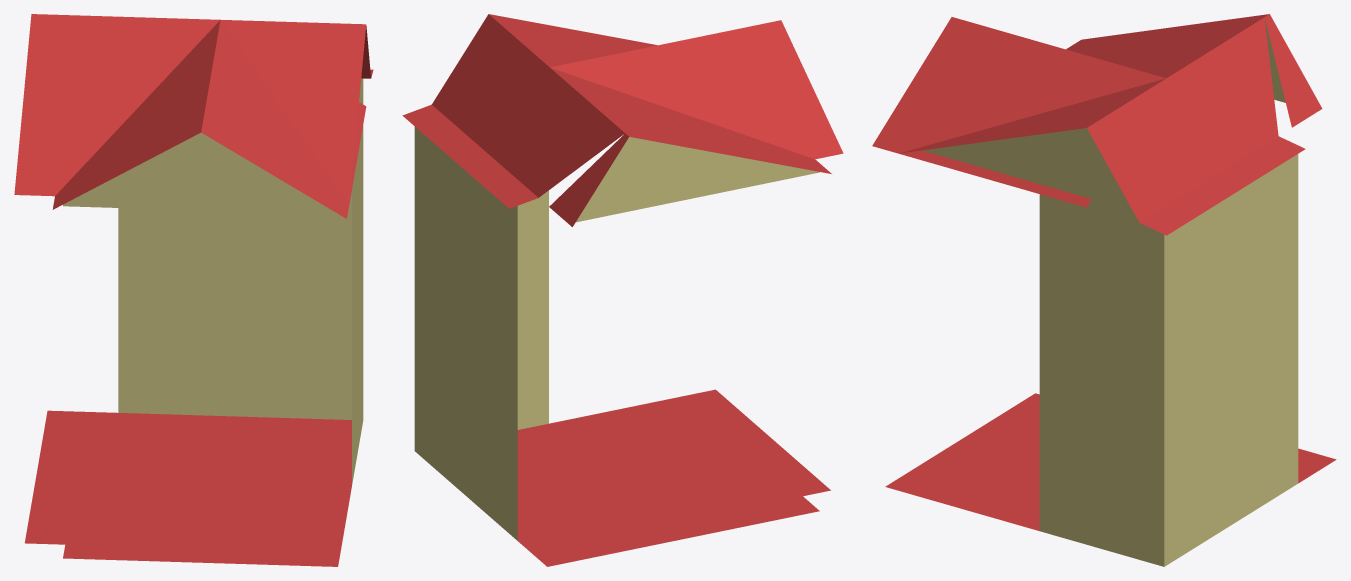
3 views of the same model, side by side, from view 1: azimuth 30°, elevation 25°; view 2: azimuth 150°, elevation 25°; view 3: azimuth 270°, elevation 25° (orthographic). The views are drawn at different scales.
Bounding box in the file's own units: 12.11 × 12.46 × 12.47.
